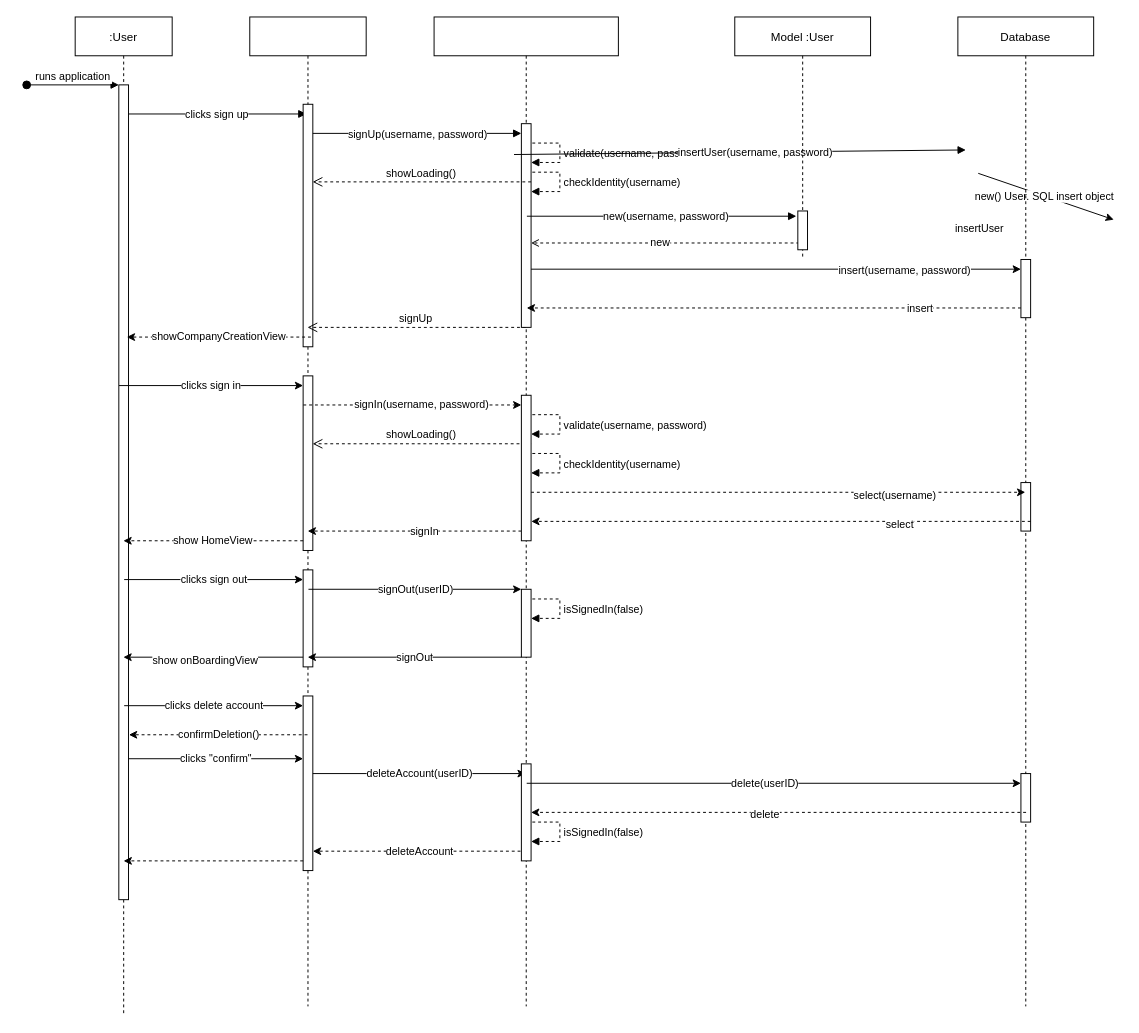
This 1139x1033 diagram has some shape labels left out. The shapes that lost their labels are listed below. From the top down, each one's box as (x1, y1, x2, y2) in pixels, then its label:
(249, 16, 366, 1006): UI : OnBoardingView
(433, 16, 618, 1006): Controller : OnBoardingController
